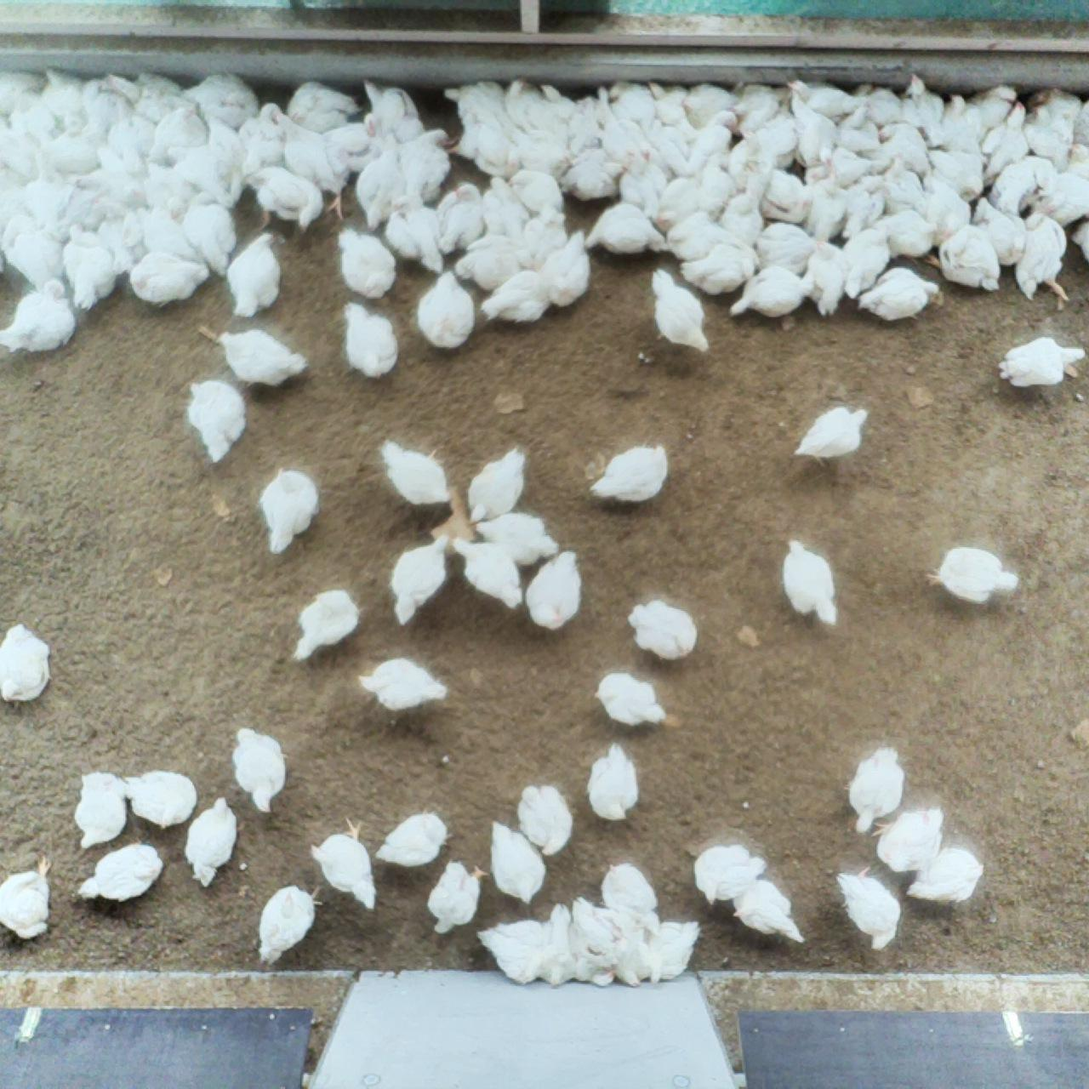chicken: (196, 318, 310, 389), (308, 812, 382, 915), (831, 863, 906, 955), (387, 532, 455, 631), (252, 463, 322, 558), (377, 431, 460, 510), (285, 586, 364, 668), (778, 535, 846, 629), (253, 879, 324, 969), (584, 438, 670, 512), (922, 543, 1023, 606), (182, 374, 250, 465), (1013, 208, 1073, 311), (0, 277, 79, 355), (448, 533, 526, 612), (181, 793, 242, 893), (522, 546, 590, 635), (324, 112, 381, 218), (870, 799, 948, 876), (844, 741, 907, 836), (353, 656, 452, 716), (224, 229, 289, 320), (74, 838, 165, 903), (922, 223, 1005, 294), (68, 768, 133, 858), (465, 440, 533, 526), (729, 876, 810, 948), (226, 722, 288, 815), (722, 112, 796, 189), (120, 766, 202, 835), (788, 402, 871, 470), (0, 853, 62, 944), (581, 738, 645, 826), (649, 266, 712, 355), (413, 266, 478, 352), (470, 510, 566, 568), (487, 818, 550, 906), (691, 839, 771, 908), (996, 332, 1088, 392), (426, 855, 490, 941), (903, 842, 987, 907), (446, 106, 521, 178), (623, 597, 701, 666), (60, 222, 121, 308), (0, 619, 57, 711), (855, 262, 940, 323), (535, 224, 599, 305), (474, 916, 546, 988), (249, 164, 323, 234), (181, 188, 239, 277), (333, 224, 398, 303), (373, 807, 455, 869), (726, 264, 815, 321), (128, 247, 211, 308), (340, 299, 400, 383), (3, 222, 69, 297), (268, 109, 329, 189), (513, 783, 576, 860), (582, 199, 667, 256), (384, 191, 443, 273), (592, 671, 669, 733), (349, 146, 406, 228), (283, 77, 359, 138), (479, 266, 551, 330), (182, 68, 261, 125), (602, 860, 659, 939), (980, 97, 1031, 185), (654, 207, 739, 259), (166, 143, 235, 207), (358, 76, 428, 139), (399, 127, 453, 208), (971, 194, 1029, 269), (453, 231, 530, 287), (840, 220, 893, 300), (676, 107, 739, 174), (568, 893, 627, 964), (431, 180, 485, 256), (918, 173, 972, 248), (535, 899, 581, 987), (989, 153, 1057, 212), (150, 99, 209, 167), (678, 242, 754, 294), (137, 203, 205, 261), (786, 91, 835, 171), (235, 97, 284, 177), (21, 149, 71, 225), (204, 112, 246, 200), (898, 70, 947, 145), (107, 69, 185, 115), (650, 920, 702, 989), (600, 104, 656, 168), (873, 208, 943, 259), (799, 239, 845, 316), (108, 94, 156, 165), (753, 217, 814, 271), (479, 174, 529, 239), (1026, 100, 1075, 166), (560, 156, 628, 203), (925, 146, 984, 200), (728, 81, 790, 131), (505, 168, 567, 218), (645, 77, 699, 134), (785, 78, 869, 114), (511, 124, 569, 175), (806, 179, 847, 251), (839, 175, 885, 239), (40, 65, 92, 121), (876, 121, 931, 173), (99, 205, 141, 273), (73, 167, 148, 205), (938, 91, 983, 154), (880, 153, 925, 215), (720, 182, 768, 240), (442, 76, 505, 120), (50, 122, 102, 175), (758, 169, 808, 224), (801, 144, 875, 181), (1041, 169, 1089, 225), (654, 176, 701, 233), (838, 99, 883, 158), (679, 84, 738, 128), (524, 209, 568, 267), (697, 154, 737, 217), (141, 155, 186, 211), (618, 151, 666, 203), (0, 123, 43, 179), (606, 80, 652, 130), (610, 935, 654, 987), (568, 93, 604, 155), (8, 85, 51, 136), (570, 945, 621, 988), (502, 74, 542, 126), (0, 66, 39, 115), (58, 190, 105, 229), (82, 78, 117, 130), (534, 81, 576, 123), (644, 118, 690, 155), (865, 84, 903, 121), (1059, 138, 1089, 180)
